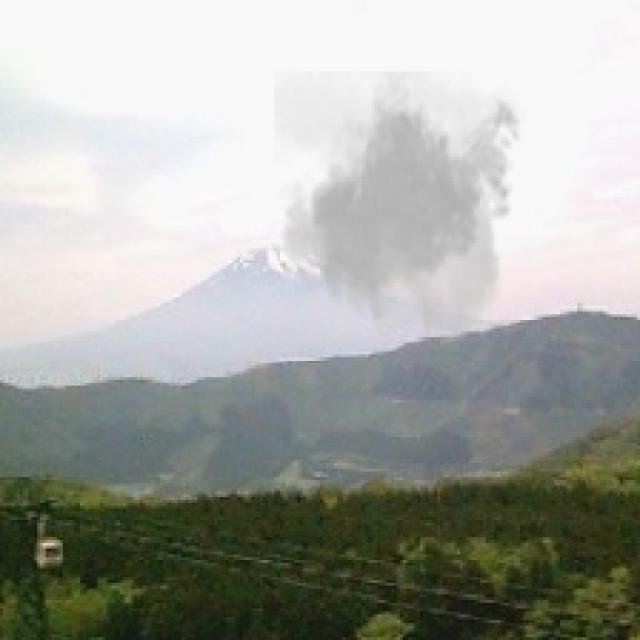Smoke: (274, 72, 529, 348)
